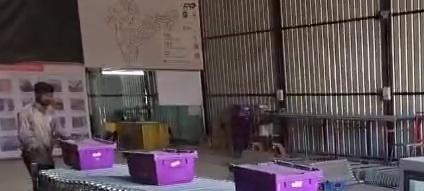box: (232, 161, 322, 190), (124, 149, 196, 185), (59, 139, 116, 169)
